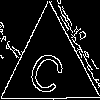C: (24, 41, 72, 99)
